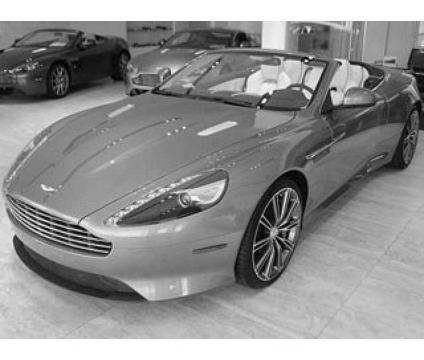car: (3, 47, 423, 304)
